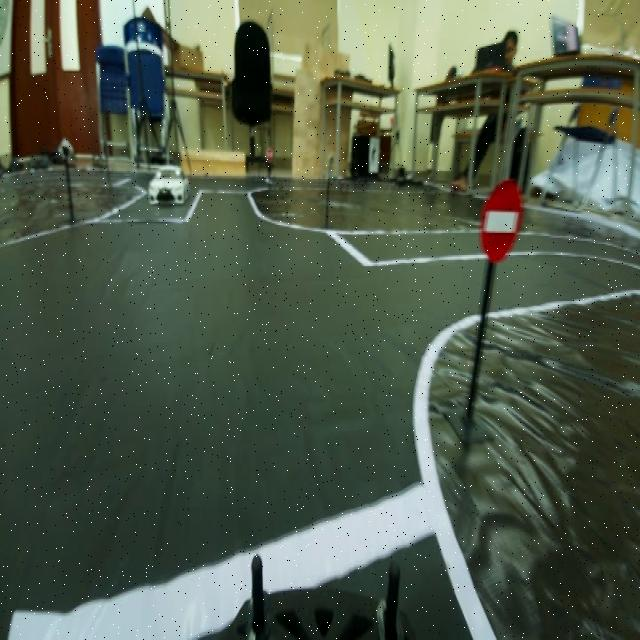car: (145, 162, 190, 215)
no_entry: (472, 174, 526, 268)
